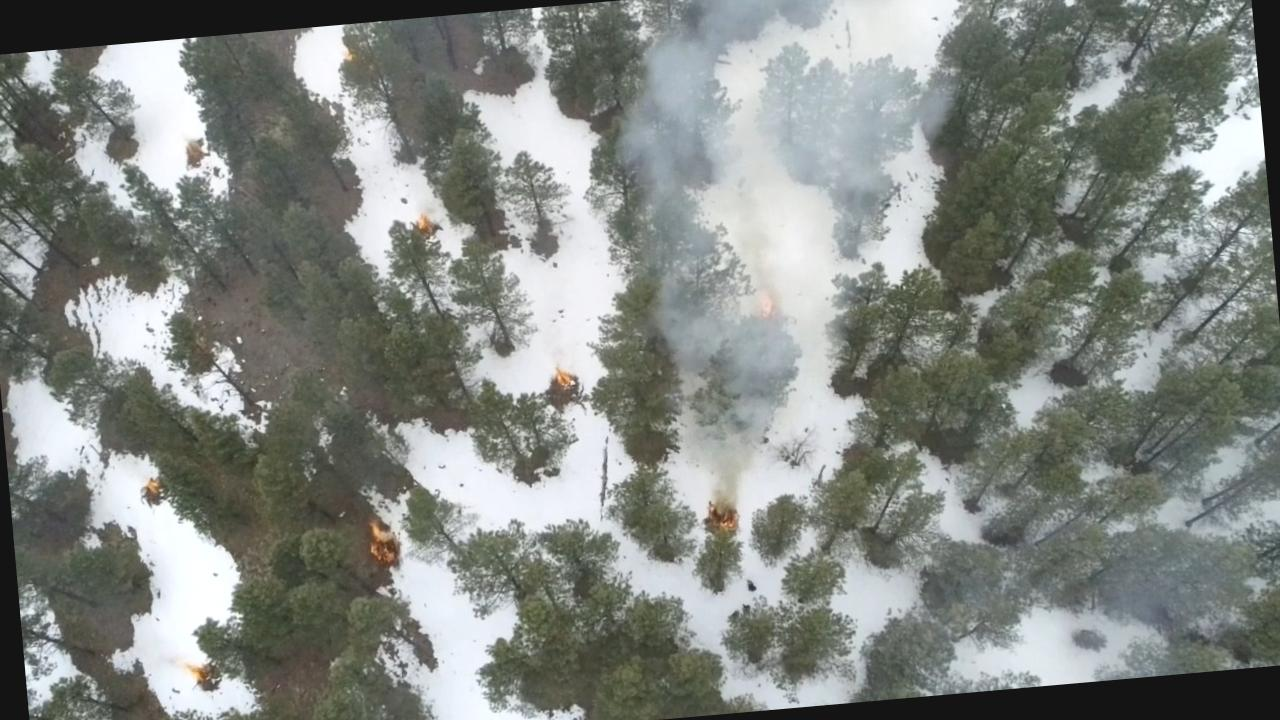fire: (359, 522, 403, 579), (699, 490, 746, 542), (746, 273, 788, 331), (548, 358, 582, 395), (410, 212, 440, 238)
smoke: (602, 0, 964, 235), (636, 218, 856, 416)
